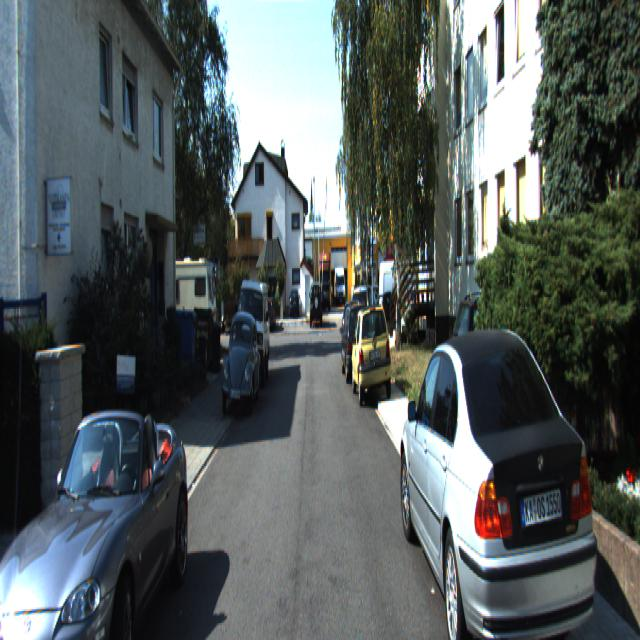Car: (397, 319, 614, 638), (0, 389, 195, 638), (0, 382, 77, 638), (448, 286, 578, 414), (141, 259, 225, 362), (218, 309, 262, 411), (351, 305, 391, 408), (235, 274, 271, 386), (378, 256, 432, 324), (340, 304, 374, 386), (309, 282, 322, 328)
